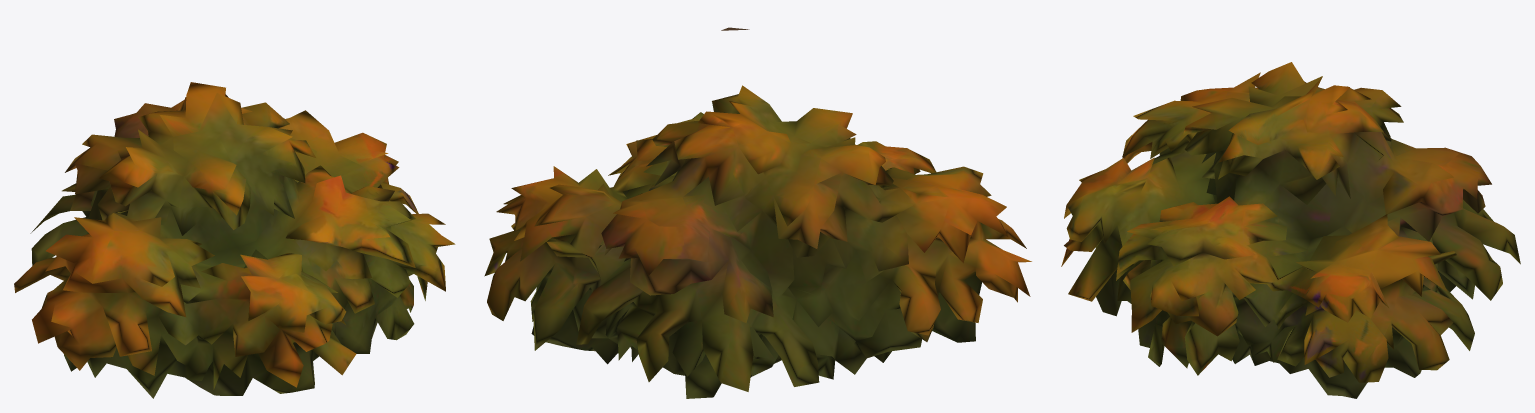
File: bush_round.glb
3 renders of one model, left to right at view 1: azimuth 30°, elevation 25°; view 2: azimuth 150°, elevation 25°; view 3: azimuth 270°, elevation 25°, orthographic. The views are drawn at different scales.
Parts seen in each view (by area): view 1: bush_round; view 2: bush_round; view 3: bush_round.
Part boxes in pixels (<box>): bush_round: <box>14,82,455,398</box>; bush_round: <box>484,27,1031,398</box>; bush_round: <box>1061,62,1520,398</box>.
Bounding box in the file's own units: 2.71 × 1.8 × 2.46.
Materials: 1 (1 with a texture image).
